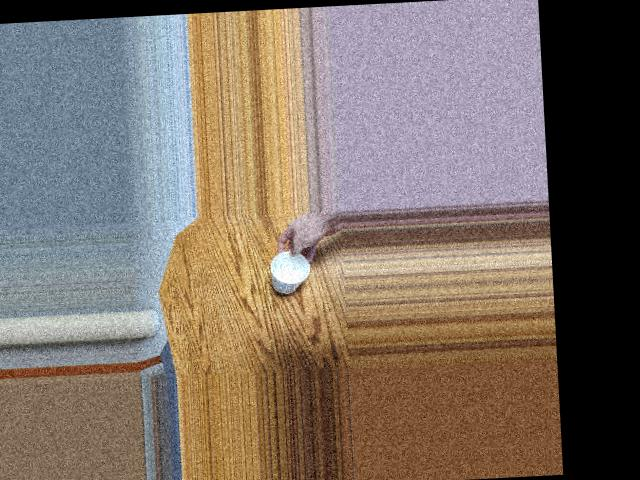cotage: (266, 244, 310, 290)
